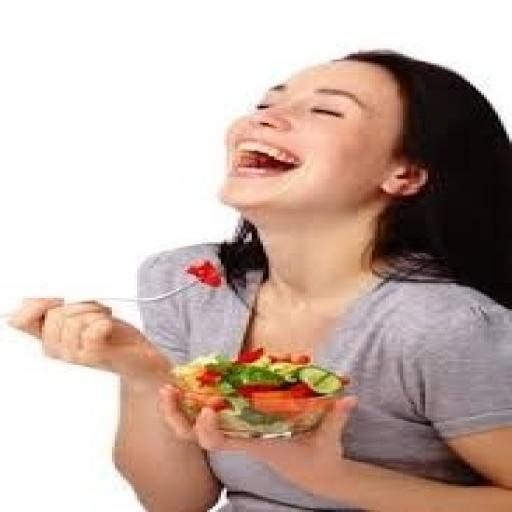laughing: (8, 43, 510, 510)
